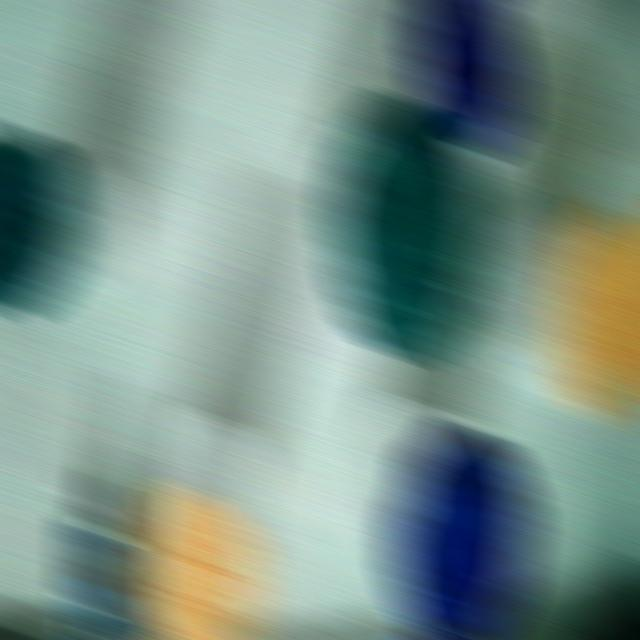blue: (389, 421, 532, 639), (413, 0, 520, 154), (0, 125, 79, 312)
green: (329, 97, 486, 360), (0, 125, 79, 312)
yellow: (134, 485, 263, 639), (555, 202, 639, 423)
